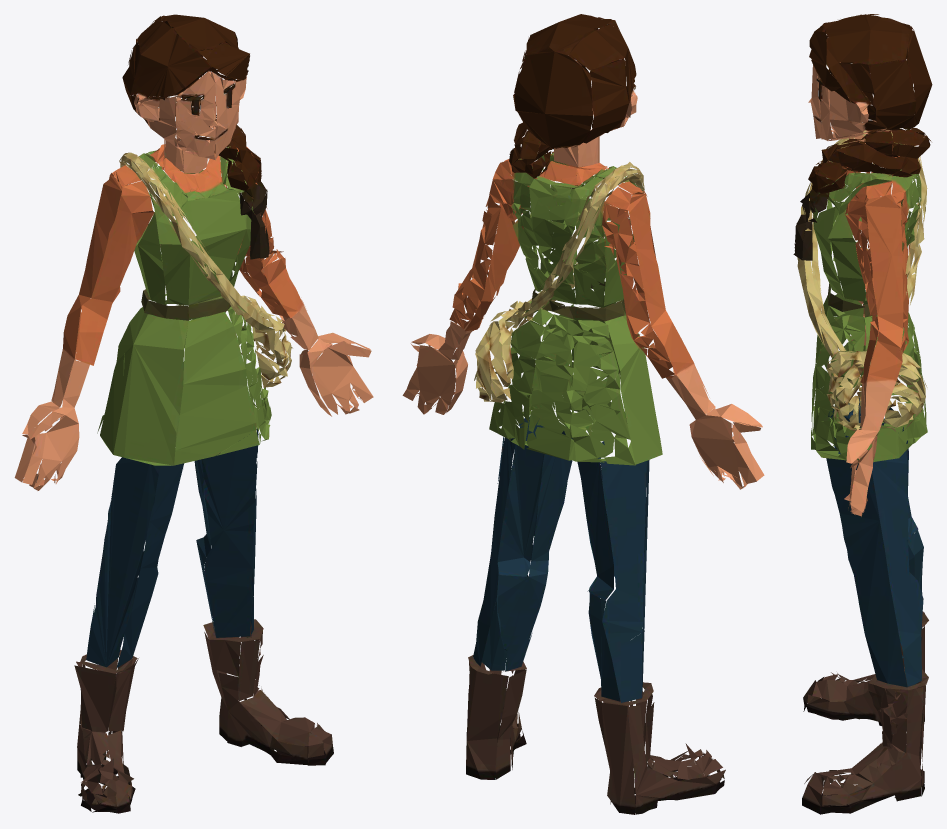
Rendered from habitant.glb.
The picture shows the model from 3 angles, left to right: view 1: azimuth 30°, elevation 25°; view 2: azimuth 150°, elevation 25°; view 3: azimuth 270°, elevation 25°; orthographic projection.
Parts seen in each view (by area): view 1: world; view 2: world; view 3: world.
Boxes of the visible parts, x1,y1,x2,y2 form: world: (14,14,373,813); world: (402,14,764,814); world: (793,14,932,814).
Size of the model in its own units: 0.4972 by 1.01 by 0.1724.
Materials: 1 (1 with a texture image).
